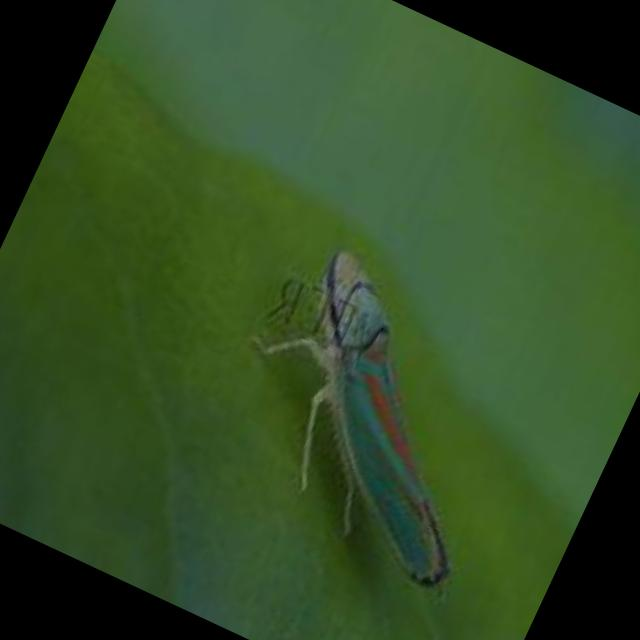green-leafhopper: (194, 234, 554, 604)
